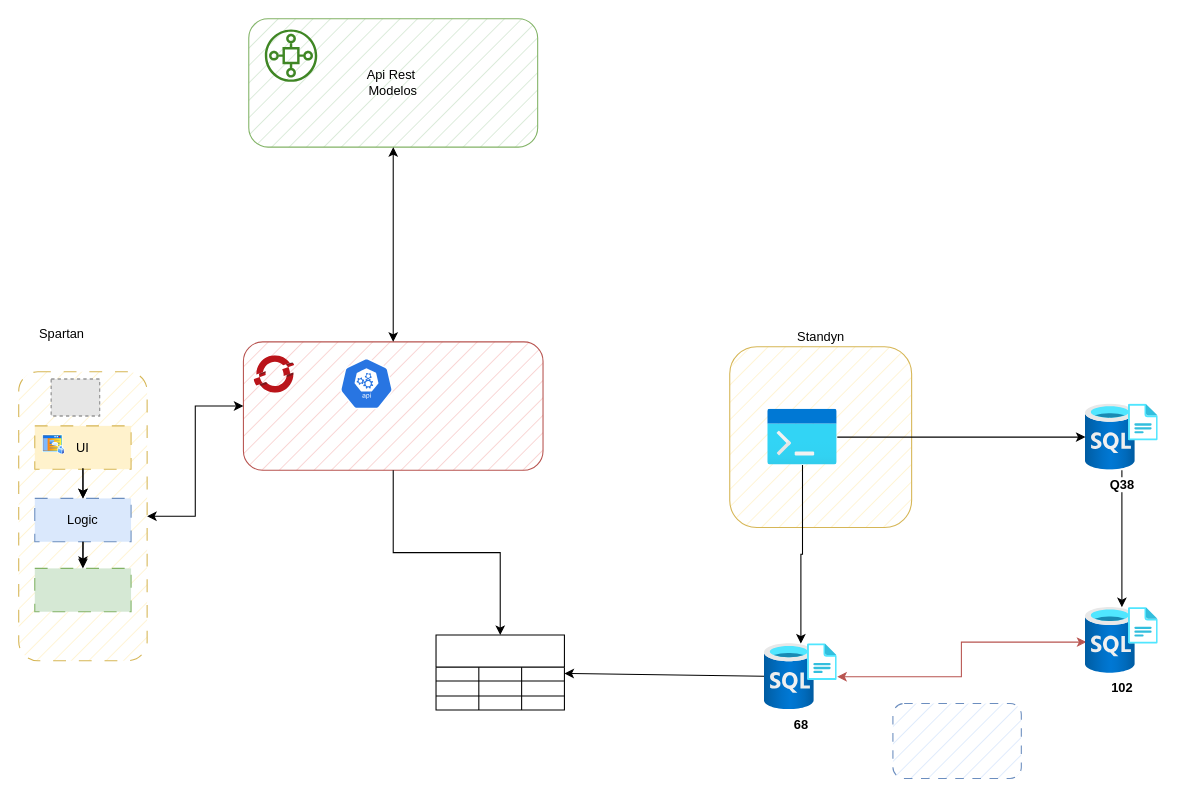
This 1177x797 diagram has some shape labels left out. Grey dashed boxes stand in for pictures. Each missing label, with the centre of its shape:
"Acceso" goes at [82,589].
"Cash" goes at [499,672].
"ETLs Tiempo: 10s Minimo: Maximo" goes at [956,740].
"Microservicio ORQProductos1095" goes at [366,383].
